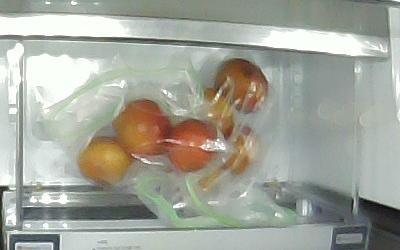prune_vinyl: (112, 100, 170, 155), (213, 57, 268, 114), (167, 119, 217, 171), (77, 136, 130, 185), (217, 122, 260, 175)
